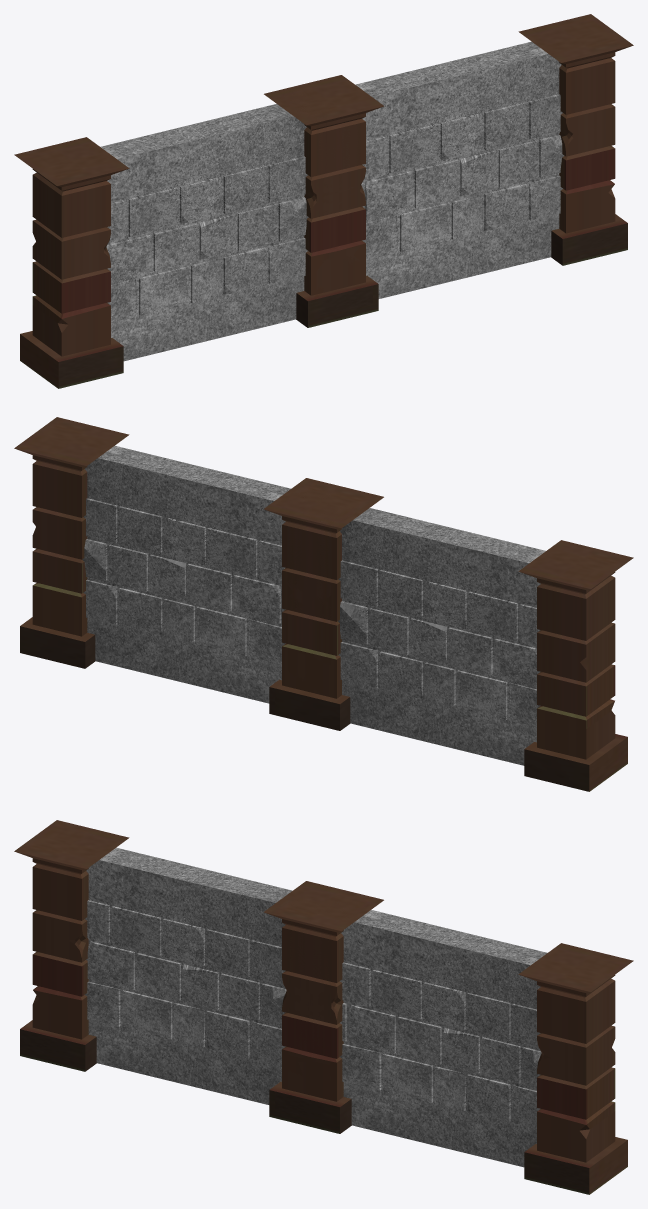
The model's file is ParedProy.obj.
The picture shows the model from 3 angles, top to bottom: view 1: azimuth 30°, elevation 25°; view 2: azimuth 150°, elevation 25°; view 3: azimuth 330°, elevation 25°; orthographic projection.
Parts seen in each view (by area): view 1: ParedCompletaSola.002_Plano.010, ParedCompletaSola.003_Plano.012, Pilar1.002_Plano.016, Pilar1.003_Plano.011; view 2: ParedCompletaSola.003_Plano.012, ParedCompletaSola.002_Plano.010, Pilar1.002_Plano.016, Pilar1.003_Plano.011; view 3: ParedCompletaSola.002_Plano.010, ParedCompletaSola.003_Plano.012, Pilar1.002_Plano.016, Pilar1.003_Plano.011.
Boxes of the visible parts, x1=… form: ParedCompletaSola.002_Plano.010: x1=355, y1=41, x2=564, y2=298; ParedCompletaSola.003_Plano.012: x1=100, y1=104, x2=308, y2=361; Pilar1.002_Plano.016: x1=14, y1=14, x2=633, y2=388; Pilar1.003_Plano.011: x1=264, y1=75, x2=383, y2=327; ParedCompletaSola.003_Plano.012: x1=338, y1=508, x2=545, y2=765; ParedCompletaSola.002_Plano.010: x1=82, y1=445, x2=290, y2=703; Pilar1.002_Plano.016: x1=14, y1=417, x2=633, y2=791; Pilar1.003_Plano.011: x1=264, y1=478, x2=383, y2=730; ParedCompletaSola.002_Plano.010: x1=340, y1=910, x2=547, y2=1167; ParedCompletaSola.003_Plano.012: x1=85, y1=847, x2=292, y2=1104; Pilar1.002_Plano.016: x1=14, y1=820, x2=633, y2=1194; Pilar1.003_Plano.011: x1=264, y1=881, x2=383, y2=1133.
Size of the model in its own units: 8.85 by 3.01 by 1.14.
Materials: 2 (2 with a texture image).
